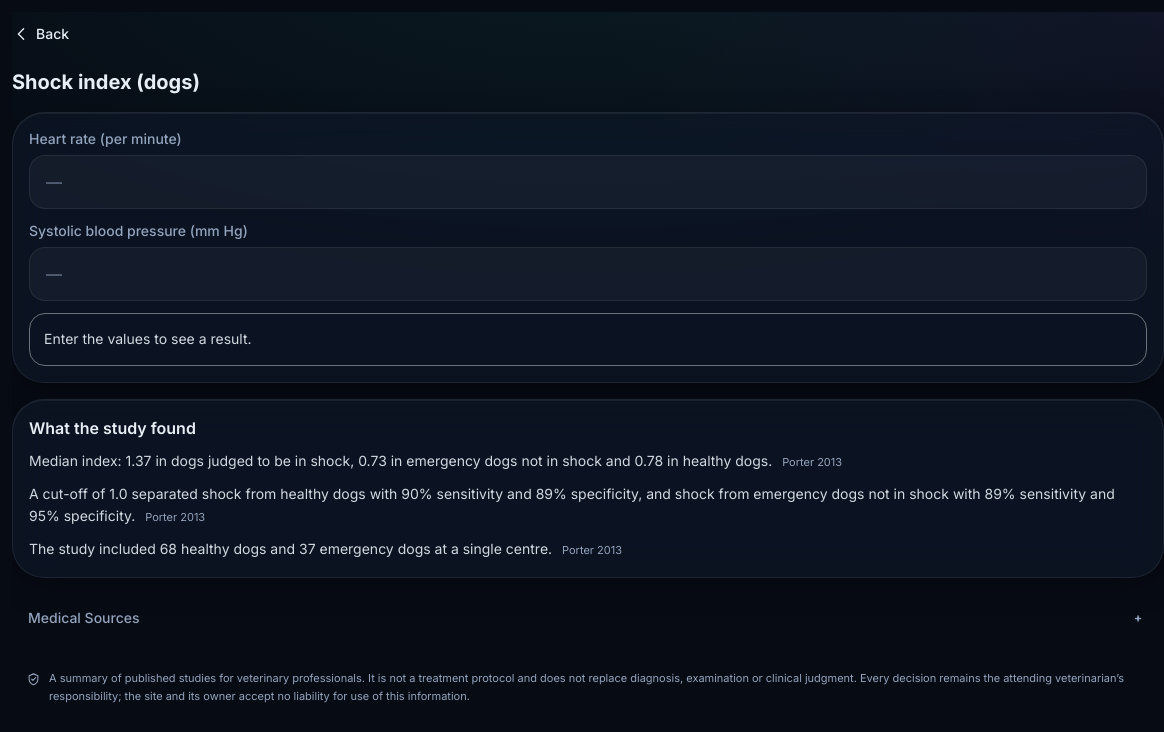
Test: bedside calculators › shock index: an impossible value is explained, not computed
Type "900" into the number field labelled "Heart rate (per minute)" at (588, 182), box [29,155,1147,209]
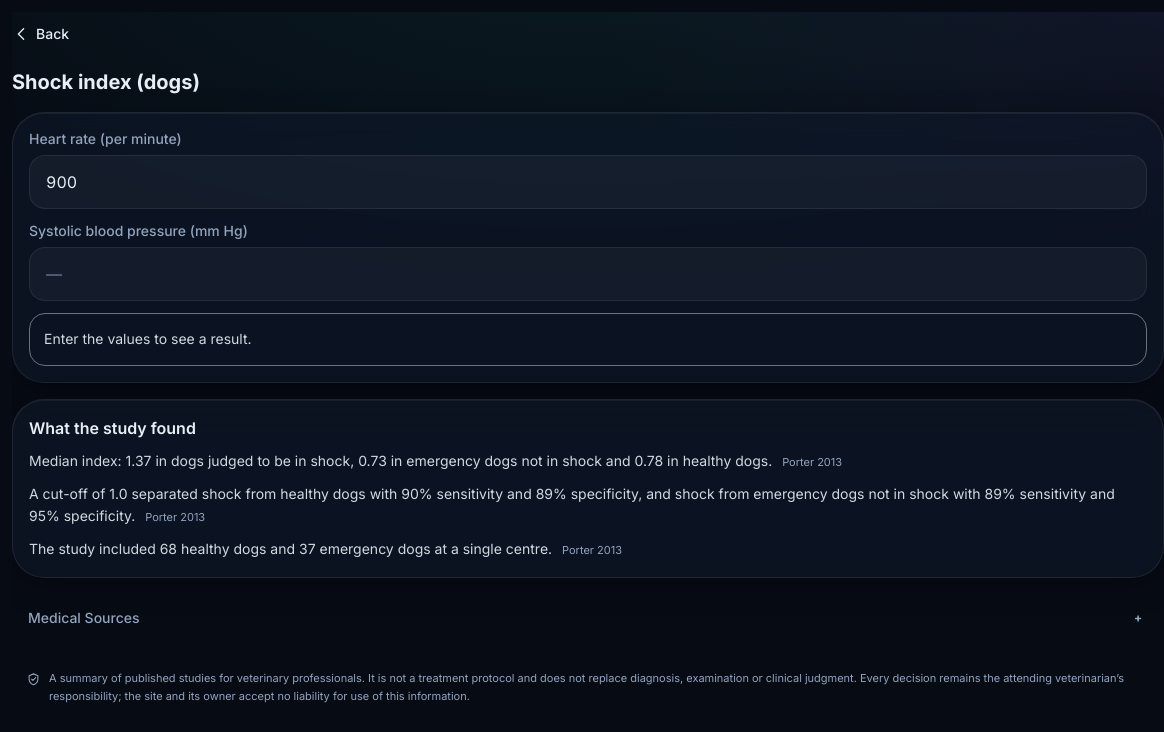
Type "100" into the number field labelled "Systolic blood pressure (mm Hg)" at (588, 274), box [29,247,1147,301]
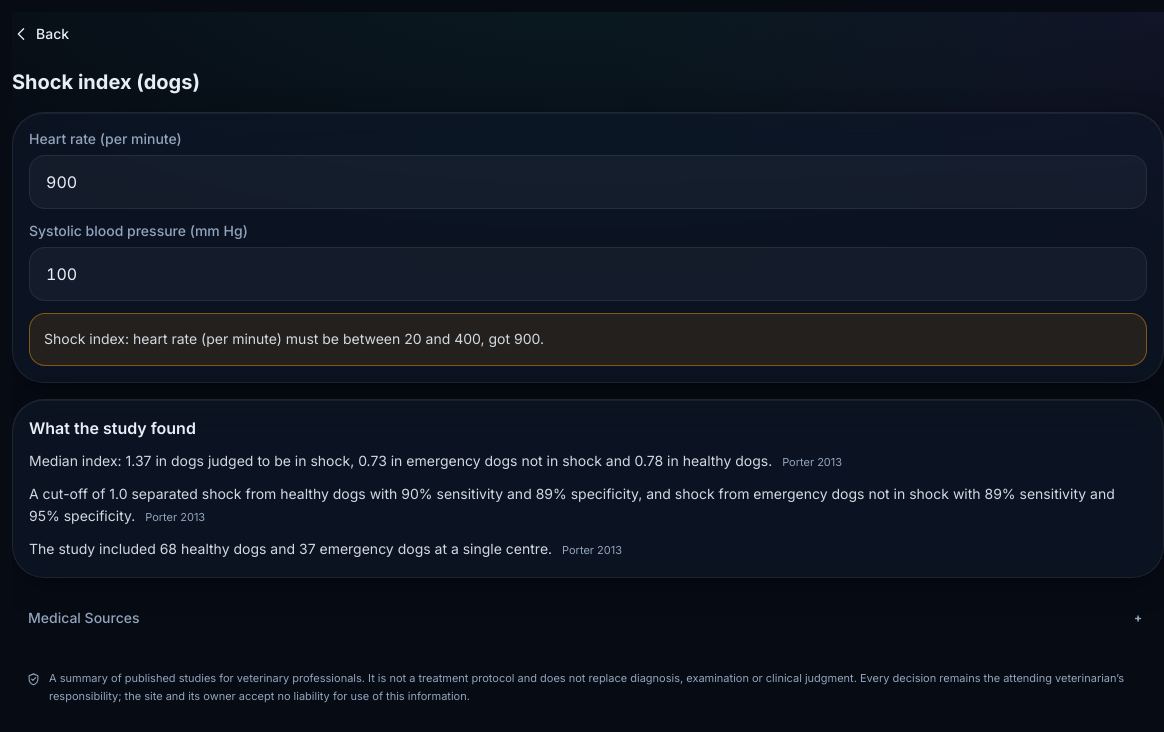
Expected: the message reads "Shock index: heart rate (per minute) must be between 20 and 400, got 900.", [44,330,544,347]
